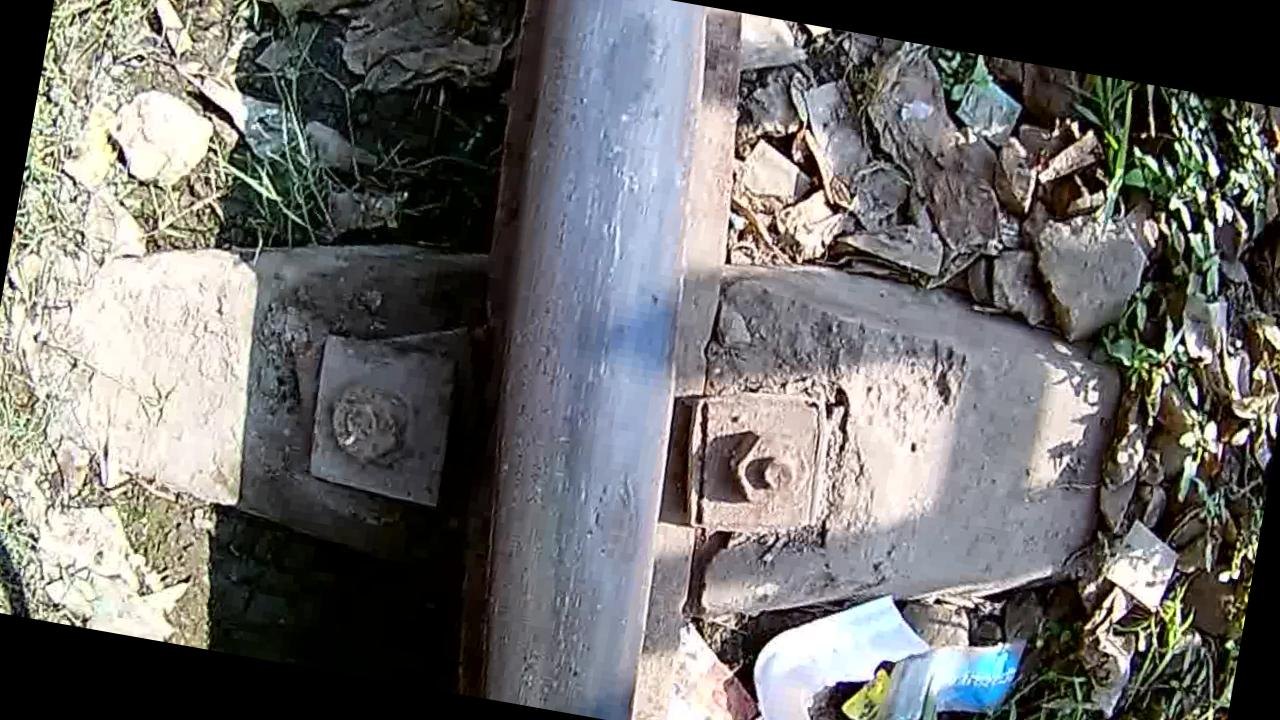bolt_missing: (516, 0, 708, 233)
